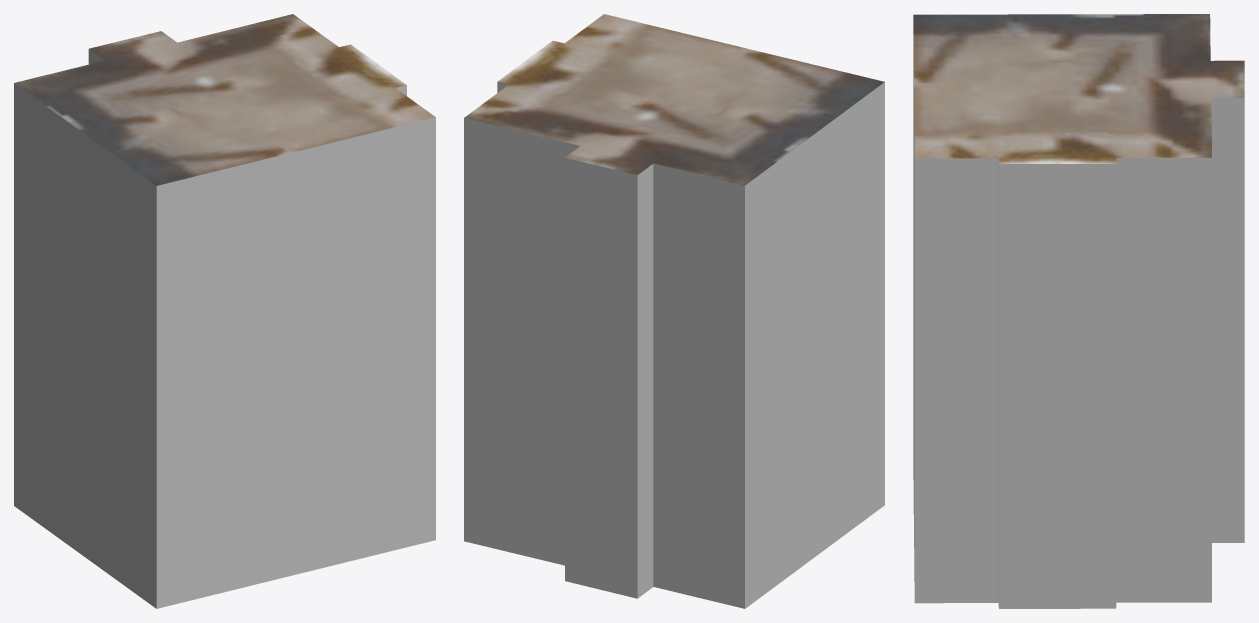
File: DEBW_0010007Tx9E.gltf
The picture shows the model from 3 angles, left to right: view 1: azimuth 30°, elevation 25°; view 2: azimuth 150°, elevation 25°; view 3: azimuth 270°, elevation 25°; orthographic projection. The views are drawn at different scales.
Parts seen in each view (by area): view 1: Z_UP; view 2: Z_UP; view 3: Z_UP.
Part boxes in pixels (<box>): Z_UP: <box>14,14,435,608</box>; Z_UP: <box>464,14,884,608</box>; Z_UP: <box>913,14,1244,608</box>.
Bounding box in the file's own units: 12.53 × 17.31 × 11.69.
Materials: 2 (1 with a texture image).
